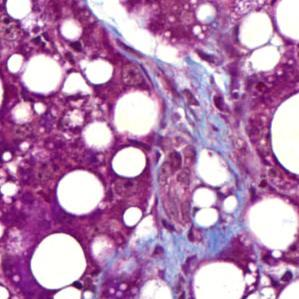ballooning: (247, 189, 298, 253), (32, 230, 84, 286), (113, 87, 163, 139), (56, 169, 106, 216), (192, 258, 247, 299), (25, 50, 67, 97), (237, 9, 275, 49), (109, 144, 151, 178), (84, 55, 119, 86), (121, 201, 143, 229)
